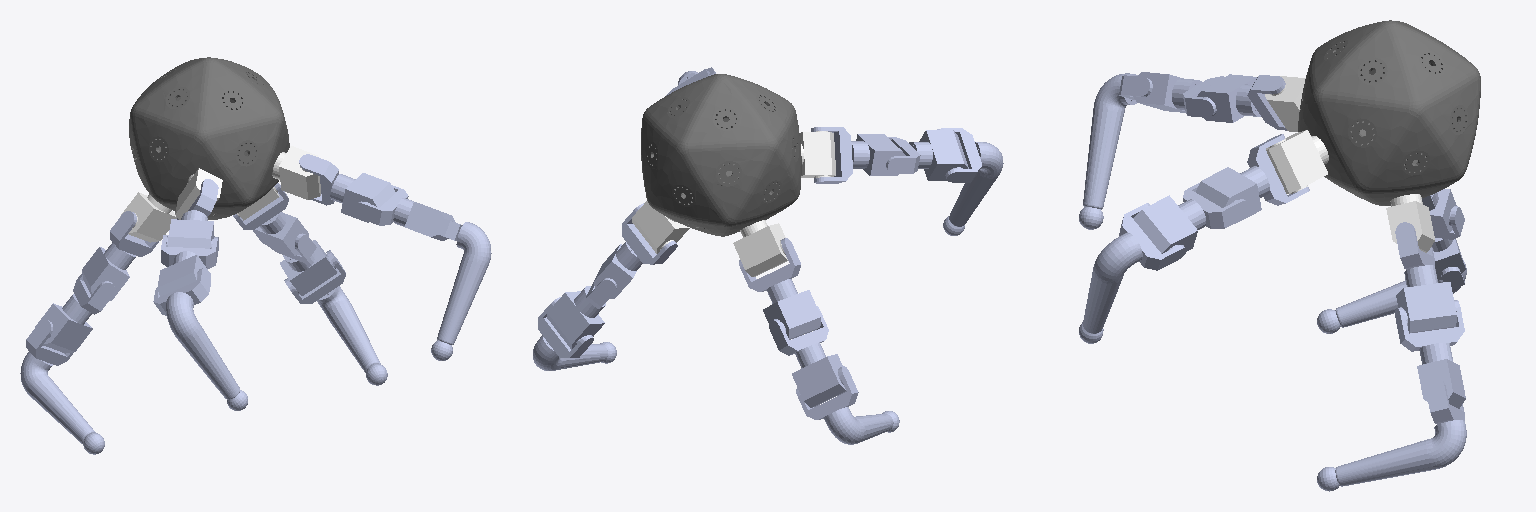
URDF robot description (mod_test):
<?xml version="1.0" encoding="utf-8"?>
<robot
  name="mod_test">
  <link
    name="base_link">
    <inertial>
      <origin
        xyz="-1.5226495220944E-06 1.5812928362389E-07 -5.05247252856584E-07"
        rpy="0 0 0" />
      <mass
        value="0.422806992949252" />
      <inertia
        ixx="0.00237499139253511"
        ixy="1.5717831530364E-08"
        ixz="1.49286265366169E-08"
        iyy="0.00237502154661776"
        iyz="-2.02154172619351E-08"
        izz="0.00237502595466009" />
    </inertial>
    <visual>
      <origin
        xyz="0 0 0"
        rpy="0 0 0" />
      <geometry>
        <mesh
          filename="package://meshes/base_link.STL" />
      </geometry>
      <material
        name="">
        <color
          rgba="0.498039215686275 0.498039215686275 0.498039215686275 1" />
      </material>
    </visual>
    <collision>
      <origin
        xyz="0 0 0"
        rpy="0 0 0" />
      <geometry>
        <mesh
          filename="package://meshes/base_link.STL" />
      </geometry>
    </collision>
  </link>
  <link
   name="160">
   <inertial>
      <origin
        xyz="0 0 0.028508"
        rpy="0 0 0" />
      <mass
        value="0.076173" />
      <inertia
        ixx="3.054E-05"
        ixy="-0.000000"
        ixz="-0.000000"
        iyy="2.1077E-05"
        iyz="-0.000000"
        izz="2.1165E-05" />
    </inertial>
    <visual>
      <origin
        xyz="0 0 0"
        rpy="0 0 0" />
      <geometry>
        <mesh
          filename="package://meshes/1.STL" />
      </geometry>
      <material
        name="">
        <color
          rgba="1 1 1 1" />
      </material>
    </visual>
    <collision>
      <origin
        xyz="0 0 0"
        rpy="0 0 0" />
      <geometry>
        <mesh
          filename="package://meshes/1.STL" />
      </geometry>
    </collision>
  </link>
  <joint
    name="body_160"
    type="fixed">
    <origin
        xyz="0.051623 0.016773 -0.071046"
        rpy="-2.557073 0.308415 -1.686767" />
    <parent
      link="base_link" />
    <child
      link="160" />
    <axis
      xyz="0 0 0" />
  </joint>
  <link
    name="161">
    <inertial>
      <origin
        xyz="0.060018 -1.4108E-06 1.4108E-06"
        rpy="0 0 0" />
    <mass
        value="0.10689" />
      <inertia
        ixx="3.2684e-05"
        ixy="-2.5662e-09"
        ixz="2.5662e-09"
        iyy="8.6498e-05"
        iyz="4.0975e-06"
        izz="8.2217e-05" />
    </inertial>
    <visual>
      <origin
        xyz="0 0 0"
        rpy="0 0 0" />
      <geometry>
        <mesh
          filename="package://meshes/module8.STL" />
      </geometry>
      <material
        name="">
        <color
          rgba="0.79216 0.81961 0.93333 1" />
      </material>
    </visual>
    <collision>
      <origin
        xyz="0 0 0"
        rpy="0 0 0" />
      <geometry>
        <mesh
          filename="package://meshes/module8.STL" />
      </geometry>
    </collision>
  </link>
  <joint
    name="160_161"
    type="revolute">
    <origin
      xyz="0 0 0.04"
      rpy="-1.558 -1.5708 -0.012835" />
    <parent
      link="160" />
    <child
      link="161" />
    <axis
      xyz="0 0 1" />
    <limit
      lower="-6.28"
      upper="6.28"
      effort="10"
      velocity="100" />
  </joint>
  <link
    name="162">
    <inertial>
      <origin
        xyz="0.060018 -1.4108E-06 1.4108E-06"
        rpy="0 0 0" />
    <mass
        value="0.10689" />
      <inertia
        ixx="3.2684e-05"
        ixy="-2.5662e-09"
        ixz="2.5662e-09"
        iyy="8.6498e-05"
        iyz="-4.0975e-06"
        izz="8.2217e-05" />
    </inertial>
    <visual>
      <origin
        xyz="0 0 0"
        rpy="0 0 0" />
      <geometry>
        <mesh
          filename="package://meshes/module10.STL" />
      </geometry>
      <material
        name="">
        <color
          rgba="0.79216 0.81961 0.93333 1" />
      </material>
    </visual>
    <collision>
      <origin
        xyz="0 0 0"
        rpy="0 0 0" />
      <geometry>
        <mesh
          filename="package://meshes/module10.STL" />
      </geometry>
    </collision>
  </link>
  <joint
    name="161_162"
    type="revolute">
    <origin
      xyz="0.0816 0 0"
      rpy="4.188790 0 0" />
    <parent
      link="161" />
    <child
      link="162" />
    <axis
      xyz="0 0 1" />
    <limit
      lower="-6.28"
      upper="6.28"
      effort="10"
      velocity="100" />
  </joint>
  <link
    name="163">
    <inertial>
      <origin
        xyz="0.051733 -0.042281 -1.3878E-17"
        rpy="0 0 0" />
    <mass
        value="0.12059" />
      <inertia
        ixx="0.00025425"
        ixy="4.8319E-05"
        ixz="0"
        iyy="5.0194E-05"
        iyz="-3.3141E-21"
        izz="0.00027482" />
    </inertial>
    <visual>
      <origin
        xyz="0 0 0"
        rpy="0 0 0" />
      <geometry>
        <mesh
          filename="package://meshes/leg.STL" />
      </geometry>
      <material
        name="">
        <color
          rgba="0.79216 0.81961 0.93333 1" />
      </material>
    </visual>
    <collision>
      <origin
        xyz="0 0 0"
        rpy="0 0 0" />
      <geometry>
        <mesh
          filename="package://meshes/leg.STL" />
      </geometry>
    </collision>
  </link>
  <joint
    name="162_163"
    type="revolute">
    <origin
      xyz="0.0816 0 0"
      rpy="5.235988 0 0" />
    <parent
      link="162" />
    <child
      link="163" />
    <axis
      xyz="0 0 1" />
    <limit
      lower="-6.28"
      upper="6.28"
      effort="10"
      velocity="100" />
  </joint>
  <link
   name="100">
   <inertial>
      <origin
        xyz="0 0 0.028508"
        rpy="0 0 0" />
      <mass
        value="0.076173" />
      <inertia
        ixx="3.054E-05"
        ixy="-0.000000"
        ixz="-0.000000"
        iyy="2.1077E-05"
        iyz="-0.000000"
        izz="2.1165E-05" />
    </inertial>
    <visual>
      <origin
        xyz="0 0 0"
        rpy="0 0 0" />
      <geometry>
        <mesh
          filename="package://meshes/1.STL" />
      </geometry>
      <material
        name="">
        <color
          rgba="1 1 1 1" />
      </material>
    </visual>
    <collision>
      <origin
        xyz="0 0 0"
        rpy="0 0 0" />
      <geometry>
        <mesh
          filename="package://meshes/1.STL" />
      </geometry>
    </collision>
  </link>
  <joint
    name="body_100"
    type="fixed">
    <origin
        xyz="0.051620 -0.071049 -0.016769"
        rpy="-1.787804 0.513383 -2.621137" />
    <parent
      link="base_link" />
    <child
      link="100" />
    <axis
      xyz="0 0 0" />
  </joint>
  <link
    name="101">
    <inertial>
      <origin
        xyz="0.060018 -1.4108E-06 1.4108E-06"
        rpy="0 0 0" />
    <mass
        value="0.10689" />
      <inertia
        ixx="3.2684e-05"
        ixy="-2.5662e-09"
        ixz="2.5662e-09"
        iyy="8.6498e-05"
        iyz="4.0975e-06"
        izz="8.2217e-05" />
    </inertial>
    <visual>
      <origin
        xyz="0 0 0"
        rpy="0 0 0" />
      <geometry>
        <mesh
          filename="package://meshes/module2.STL" />
      </geometry>
      <material
        name="">
        <color
          rgba="0.79216 0.81961 0.93333 1" />
      </material>
    </visual>
    <collision>
      <origin
        xyz="0 0 0"
        rpy="0 0 0" />
      <geometry>
        <mesh
          filename="package://meshes/module2.STL" />
      </geometry>
    </collision>
  </link>
  <joint
    name="100_101"
    type="revolute">
    <origin
      xyz="0 0 0.04"
      rpy="-1.558 -1.5708 -0.012835" />
    <parent
      link="100" />
    <child
      link="101" />
    <axis
      xyz="0 0 1" />
    <limit
      lower="-6.28"
      upper="6.28"
      effort="10"
      velocity="100" />
  </joint>
  <link
    name="102">
    <inertial>
      <origin
        xyz="0.060018 -1.4108E-06 1.4108E-06"
        rpy="0 0 0" />
    <mass
        value="0.10689" />
      <inertia
        ixx="3.2684e-05"
        ixy="-2.5662e-09"
        ixz="2.5662e-09"
        iyy="9.1229e-05"
        iyz="-4.0975e-06"
        izz="7.7485e-05" />
    </inertial>
    <visual>
      <origin
        xyz="0 0 0"
        rpy="0 0 0" />
      <geometry>
        <mesh
          filename="package://meshes/module5.STL" />
      </geometry>
      <material
        name="">
        <color
          rgba="0.79216 0.81961 0.93333 1" />
      </material>
    </visual>
    <collision>
      <origin
        xyz="0 0 0"
        rpy="0 0 0" />
      <geometry>
        <mesh
          filename="package://meshes/module5.STL" />
      </geometry>
    </collision>
  </link>
  <joint
    name="101_102"
    type="revolute">
    <origin
      xyz="0.0816 0 0"
      rpy="1.047198 0 0" />
    <parent
      link="101" />
    <child
      link="102" />
    <axis
      xyz="0 0 1" />
    <limit
      lower="-6.28"
      upper="6.28"
      effort="10"
      velocity="100" />
  </joint>
  <link
    name="103">
    <inertial>
      <origin
        xyz="0.051733 -0.042281 -1.3878E-17"
        rpy="0 0 0" />
    <mass
        value="0.12059" />
      <inertia
        ixx="0.00025425"
        ixy="4.8319E-05"
        ixz="0"
        iyy="5.0194E-05"
        iyz="-3.3141E-21"
        izz="0.00027482" />
    </inertial>
    <visual>
      <origin
        xyz="0 0 0"
        rpy="0 0 0" />
      <geometry>
        <mesh
          filename="package://meshes/leg.STL" />
      </geometry>
      <material
        name="">
        <color
          rgba="0.79216 0.81961 0.93333 1" />
      </material>
    </visual>
    <collision>
      <origin
        xyz="0 0 0"
        rpy="0 0 0" />
      <geometry>
        <mesh
          filename="package://meshes/leg.STL" />
      </geometry>
    </collision>
  </link>
  <joint
    name="102_103"
    type="revolute">
    <origin
      xyz="0.0816 0 0"
      rpy="2.617994 0 0" />
    <parent
      link="102" />
    <child
      link="103" />
    <axis
      xyz="0 0 1" />
    <limit
      lower="-6.28"
      upper="6.28"
      effort="10"
      velocity="100" />
  </joint>
  <link
   name="140">
   <inertial>
      <origin
        xyz="0 0 0.028508"
        rpy="0 0 0" />
      <mass
        value="0.076173" />
      <inertia
        ixx="3.054E-05"
        ixy="0.000000"
        ixz="-0.000000"
        iyy="2.1077E-05"
        iyz="-0.000000"
        izz="2.1165E-05" />
    </inertial>
    <visual>
      <origin
        xyz="0 0 0"
        rpy="0 0 0" />
      <geometry>
        <mesh
          filename="package://meshes/1.STL" />
      </geometry>
      <material
        name="">
        <color
          rgba="1 1 1 1" />
      </material>
    </visual>
    <collision>
      <origin
        xyz="0 0 0"
        rpy="0 0 0" />
      <geometry>
        <mesh
          filename="package://meshes/1.STL" />
      </geometry>
    </collision>
  </link>
  <joint
    name="body_140"
    type="fixed">
    <origin
        xyz="-0.051620 -0.071049 -0.016769"
        rpy="1.787804 0.513383 -0.520455" />
    <parent
      link="base_link" />
    <child
      link="140" />
    <axis
      xyz="0 0 0" />
  </joint>
  <link
    name="141">
    <inertial>
      <origin
        xyz="0.060018 -1.4108E-06 1.4108E-06"
        rpy="0 0 0" />
    <mass
        value="0.10689" />
      <inertia
        ixx="3.2684e-05"
        ixy="-2.5662e-09"
        ixz="2.5662e-09"
        iyy="8.6498e-05"
        iyz="-4.0975e-06"
        izz="8.2217e-05" />
    </inertial>
    <visual>
      <origin
        xyz="0 0 0"
        rpy="0 0 0" />
      <geometry>
        <mesh
          filename="package://meshes/module10.STL" />
      </geometry>
      <material
        name="">
        <color
          rgba="0.79216 0.81961 0.93333 1" />
      </material>
    </visual>
    <collision>
      <origin
        xyz="0 0 0"
        rpy="0 0 0" />
      <geometry>
        <mesh
          filename="package://meshes/module10.STL" />
      </geometry>
    </collision>
  </link>
  <joint
    name="140_141"
    type="revolute">
    <origin
      xyz="0 0 0.04"
      rpy="-1.558 -1.5708 -0.012835" />
    <parent
      link="140" />
    <child
      link="141" />
    <axis
      xyz="0 0 1" />
    <limit
      lower="-6.28"
      upper="6.28"
      effort="10"
      velocity="100" />
  </joint>
  <link
    name="142">
    <inertial>
      <origin
        xyz="0.060018 -1.4108E-06 1.4108E-06"
        rpy="0 0 0" />
    <mass
        value="0.10689" />
      <inertia
        ixx="3.2684e-05"
        ixy="-2.5662e-09"
        ixz="2.5662e-09"
        iyy="9.1229e-05"
        iyz="4.0975e-06"
        izz="7.7485e-05" />
    </inertial>
    <visual>
      <origin
        xyz="0 0 0"
        rpy="0 0 0" />
      <geometry>
        <mesh
          filename="package://meshes/module7.STL" />
      </geometry>
      <material
        name="">
        <color
          rgba="0.79216 0.81961 0.93333 1" />
      </material>
    </visual>
    <collision>
      <origin
        xyz="0 0 0"
        rpy="0 0 0" />
      <geometry>
        <mesh
          filename="package://meshes/module7.STL" />
      </geometry>
    </collision>
  </link>
  <joint
    name="141_142"
    type="revolute">
    <origin
      xyz="0.0816 0 0"
      rpy="5.235988 0 0" />
    <parent
      link="141" />
    <child
      link="142" />
    <axis
      xyz="0 0 1" />
    <limit
      lower="-6.28"
      upper="6.28"
      effort="10"
      velocity="100" />
  </joint>
  <link
    name="143">
    <inertial>
      <origin
        xyz="0.051733 -0.042281 -1.3878E-17"
        rpy="0 0 0" />
    <mass
        value="0.12059" />
      <inertia
        ixx="0.00025425"
        ixy="4.8319E-05"
        ixz="0"
        iyy="5.0194E-05"
        iyz="-3.3141E-21"
        izz="0.00027482" />
    </inertial>
    <visual>
      <origin
        xyz="0 0 0"
        rpy="0 0 0" />
      <geometry>
        <mesh
          filename="package://meshes/leg.STL" />
      </geometry>
      <material
        name="">
        <color
          rgba="0.79216 0.81961 0.93333 1" />
      </material>
    </visual>
    <collision>
      <origin
        xyz="0 0 0"
        rpy="0 0 0" />
      <geometry>
        <mesh
          filename="package://meshes/leg.STL" />
      </geometry>
    </collision>
  </link>
  <joint
    name="142_143"
    type="revolute">
    <origin
      xyz="0.0816 0 0"
      rpy="3.665191 0 0" />
    <parent
      link="142" />
    <child
      link="143" />
    <axis
      xyz="0 0 1" />
    <limit
      lower="-6.28"
      upper="6.28"
      effort="10"
      velocity="100" />
  </joint>
  <link
   name="180">
   <inertial>
      <origin
        xyz="0 0 0.028508"
        rpy="0 0 0" />
      <mass
        value="0.076173" />
      <inertia
        ixx="3.054E-05"
        ixy="0.000000"
        ixz="-0.000000"
        iyy="2.1077E-05"
        iyz="-0.000000"
        izz="2.1165E-05" />
    </inertial>
    <visual>
      <origin
        xyz="0 0 0"
        rpy="0 0 0" />
      <geometry>
        <mesh
          filename="package://meshes/1.STL" />
      </geometry>
      <material
        name="">
        <color
          rgba="1 1 1 1" />
      </material>
    </visual>
    <collision>
      <origin
        xyz="0 0 0"
        rpy="0 0 0" />
      <geometry>
        <mesh
          filename="package://meshes/1.STL" />
      </geometry>
    </collision>
  </link>
  <joint
    name="body_180"
    type="fixed">
    <origin
        xyz="-0.051623 0.016773 -0.071046"
        rpy="2.557073 0.308415 -1.454826" />
    <parent
      link="base_link" />
    <child
      link="180" />
    <axis
      xyz="0 0 0" />
  </joint>
  <link
    name="181">
    <inertial>
      <origin
        xyz="0.060018 -1.4108E-06 1.4108E-06"
        rpy="0 0 0" />
    <mass
        value="0.10689" />
      <inertia
        ixx="3.2241e-05"
        ixy="3.5298e-07"
        ixz="2.0781e-07"
        iyy="8.5969e-05"
        iyz="-3.9192e-06"
        izz="8.1482e-05" />
    </inertial>
    <visual>
      <origin
        xyz="0 0 0"
        rpy="0 0 0" />
      <geometry>
        <mesh
          filename="package://meshes/module4.STL" />
      </geometry>
      <material
        name="">
        <color
          rgba="0.79216 0.81961 0.93333 1" />
      </material>
    </visual>
    <collision>
      <origin
        xyz="0 0 0"
        rpy="0 0 0" />
      <geometry>
        <mesh
          filename="package://meshes/module4.STL" />
      </geometry>
    </collision>
  </link>
  <joint
    name="180_181"
    type="revolute">
    <origin
      xyz="0 0 0.04"
      rpy="-1.558 -1.5708 -0.012835" />
    <parent
      link="180" />
    <child
      link="181" />
    <axis
      xyz="0 0 1" />
    <limit
      lower="-6.28"
      upper="6.28"
      effort="10"
      velocity="100" />
  </joint>
  <link
    name="182">
    <inertial>
      <origin
        xyz="0.060018 -1.4108E-06 1.4108E-06"
        rpy="0 0 0" />
    <mass
        value="0.10689" />
      <inertia
        ixx="3.2684e-05"
        ixy="-2.5662e-09"
        ixz="2.5662e-09"
        iyy="8.6498e-05"
        iyz="4.0975e-06"
        izz="8.2217e-05" />
    </inertial>
    <visual>
      <origin
        xyz="0 0 0"
        rpy="0 0 0" />
      <geometry>
        <mesh
          filename="package://meshes/module2.STL" />
      </geometry>
      <material
        name="">
        <color
          rgba="0.79216 0.81961 0.93333 1" />
      </material>
    </visual>
    <collision>
      <origin
        xyz="0 0 0"
        rpy="0 0 0" />
      <geometry>
        <mesh
          filename="package://meshes/module2.STL" />
      </geometry>
    </collision>
  </link>
  <joint
    name="181_182"
    type="revolute">
    <origin
      xyz="0.0816 0 0"
      rpy="2.094395 0 0" />
    <parent
      link="181" />
    <child
      link="182" />
    <axis
      xyz="0 0 1" />
    <limit
      lower="-6.28"
      upper="6.28"
      effort="10"
      velocity="100" />
  </joint>
  <link
    name="183">
    <inertial>
      <origin
        xyz="0.051733 -0.042281 -1.3878E-17"
        rpy="0 0 0" />
    <mass
        value="0.12059" />
      <inertia
        ixx="0.00025425"
        ixy="4.8319E-05"
        ixz="0"
        iyy="5.0194E-05"
        iyz="-3.3141E-21"
        izz="0.00027482" />
    </inertial>
    <visual>
      <origin
        xyz="0 0 0"
        rpy="0 0 0" />
      <geometry>
        <mesh
          filename="package://meshes/leg.STL" />
      </geometry>
      <material
        name="">
        <color
          rgba="0.79216 0.81961 0.93333 1" />
      </material>
    </visual>
    <collision>
      <origin
        xyz="0 0 0"
        rpy="0 0 0" />
      <geometry>
        <mesh
          filename="package://meshes/leg.STL" />
      </geometry>
    </collision>
  </link>
  <joint
    name="182_183"
    type="revolute">
    <origin
      xyz="0.0816 0 0"
      rpy="1.047198 0 0" />
    <parent
      link="182" />
    <child
      link="183" />
    <axis
      xyz="0 0 1" />
    <limit
      lower="-6.28"
      upper="6.28"
      effort="10"
      velocity="100" />
  </joint>
  <link
    name = "ball_1">
    <inertial>
    <origin
        xyz="0 0 0"
        rpy="0 0 0" />
    <mass
        value="0" />
      <inertia
        ixx="0"
        ixy="0"
        ixz="0"
        iyy="0"
        iyz="0"
        izz="0" />
    </inertial>    <visual>
      <origin
        xyz="0 0 0"
        rpy="0 0 0" />
     <geometry>
        <sphere radius = "0.01"/>
      </geometry>
      <material
        name="green">
        <color
          rgba="0.22 1 0.4 1" />
      </material>
    </visual>
  </link>
  <joint
  name="163_ball1"
  type="fixed">
    <origin
      xyz="0.0612 -0.13431 0"
      rpy="0 0 0" />
    <parent
      link="163" />
    <child
      link="ball_1" />
    <axis
      xyz="0 0 0" />
  </joint>
  <link
    name = "ball_2">
    <inertial>
    <origin
        xyz="0 0 0"
        rpy="0 0 0" />
    <mass
        value="0" />
      <inertia
        ixx="0"
        ixy="0"
        ixz="0"
        iyy="0"
        iyz="0"
        izz="0" />
    </inertial>    <visual>
      <origin
        xyz="0 0 0"
        rpy="0 0 0" />
      <geometry>
        <sphere radius = "0.01"/>
      </geometry>
      <material
        name="blue">
        <color
          rgba="0.16 0.52 0.8 1" />
      </material>
    </visual>
  </link>
  <joint
  name="103_ball2"
  type="fixed">
    <origin
      xyz="0.0612 -0.13431 0"
      rpy="0 0 0" />
    <parent
      link="103" />
    <child
      link="ball_2" />
    <axis
      xyz="0 0 0" />
  </joint>
  <link
    name = "ball_3">
    <inertial>
    <origin
        xyz="0 0 0"
        rpy="0 0 0" />
    <mass
        value="0" />
      <inertia
        ixx="0"
        ixy="0"
        ixz="0"
        iyy="0"
        iyz="0"
        izz="0" />
    </inertial>    <visual>
      <origin
        xyz="0 0 0"
        rpy="0 0 0" />
     <geometry>
        <sphere radius = "0.01"/>
      </geometry>
      <material
        name="blue">
        <color
          rgba="0.16 0.52 0.8 1" />
      </material>
    </visual>
  </link>
  <joint
  name="143_ball3"
  type="fixed">
    <origin
      xyz="0.0612 -0.13431 0"
      rpy="0 0 0" />
    <parent
      link="143" />
    <child
      link="ball_3" />
    <axis
      xyz="0 0 0" />
  </joint>
  <link
    name = "ball_4">
    <inertial>
    <origin
        xyz="0 0 0"
        rpy="0 0 0" />
    <mass
        value="0" />
      <inertia
        ixx="0"
        ixy="0"
        ixz="0"
        iyy="0"
        iyz="0"
        izz="0" />
    </inertial>    <visual>
      <origin
        xyz="0 0 0"
        rpy="0 0 0" />
      <geometry>
        <sphere radius = "0.01"/>
      </geometry>
      <material
        name="yellow">
        <color
          rgba="1 1 0 1" />
      </material>
    </visual>
  </link>
  <joint
  name="183_ball4"
  type="fixed">
    <origin
      xyz="0.0612 -0.13431 0"
      rpy="0 0 0" />
    <parent
      link="183" />
    <child
      link="ball_4" />
    <axis
      xyz="0 0 0" />
  </joint>
</robot>

--- Render facts (derived) ---
3 views of the same robot in one strip: view 1: azimuth 30°, elevation 25°; view 2: azimuth 150°, elevation 25°; view 3: azimuth 270°, elevation 25° (orthographic).
Robot: mod_test — 21 links, 20 joints (12 revolute, 8 fixed); root link base_link; default pose: all joints at 0.
Links seen in each view (by area): view 1: base_link, 103, 143, 183, 163, 182, 181, 101, 161, 141, 142, 162 (+4 smaller); view 2: base_link, 182, 181, 143, 183, 142, 141, 162, 163, 161, 180, 140 (+1 smaller); view 3: base_link, 163, 143, 103, 161, 102, 101, 162, 141, 100, 183, 142 (+4 smaller).
Boxes of the visible links, <box> form: base_link: <box>129,57,289,219</box>; 103: <box>420,213,491,360</box>; 143: <box>153,268,247,410</box>; 183: <box>20,320,104,454</box>; 163: <box>284,250,387,385</box>; 182: <box>35,274,114,353</box>; 181: <box>82,211,158,300</box>; 101: <box>299,154,395,222</box>; 161: <box>233,183,308,255</box>; 141: <box>166,179,218,248</box>; 142: <box>157,235,218,296</box>; 162: <box>268,233,337,295</box>; base_link: <box>641,74,801,236</box>; 182: <box>769,306,846,407</box>; 181: <box>739,238,820,339</box>; 143: <box>937,128,1003,235</box>; 183: <box>796,366,899,444</box>; 142: <box>886,130,968,180</box>; 141: <box>811,127,905,183</box>; 162: <box>547,278,616,349</box>; 163: <box>533,297,616,370</box>; 161: <box>594,203,677,298</box>; 180: <box>733,220,787,276</box>; 140: <box>800,131,835,177</box>; base_link: <box>1298,20,1480,205</box>; 163: <box>1317,377,1466,491</box>; 143: <box>1079,73,1152,229</box>; 103: <box>1079,203,1186,343</box>; 161: <box>1395,222,1456,333</box>; 102: <box>1133,183,1250,253</box>; 101: <box>1196,134,1309,223</box>; 162: <box>1395,300,1465,408</box>; 141: <box>1197,74,1286,130</box>; 100: <box>1266,130,1328,193</box>; 183: <box>1317,260,1466,333</box>; 142: <box>1133,72,1223,117</box>.
Bounding box of the posed robot: 0.4363 × 0.4091 × 0.4368 m (x, y, z).
17 mesh visuals loaded from 9 distinct referenced files (9 binary STL).
